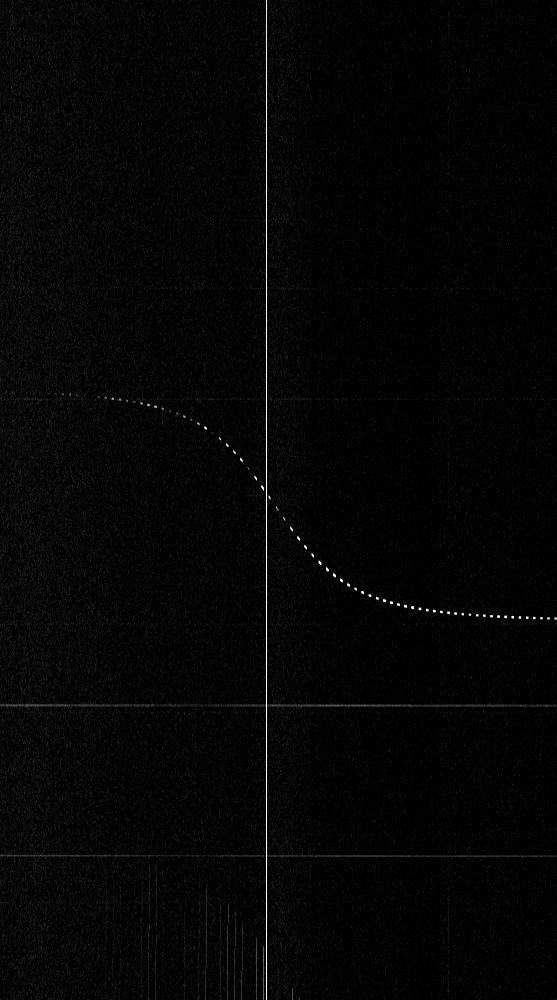signal: (0, 0, 556, 999)
